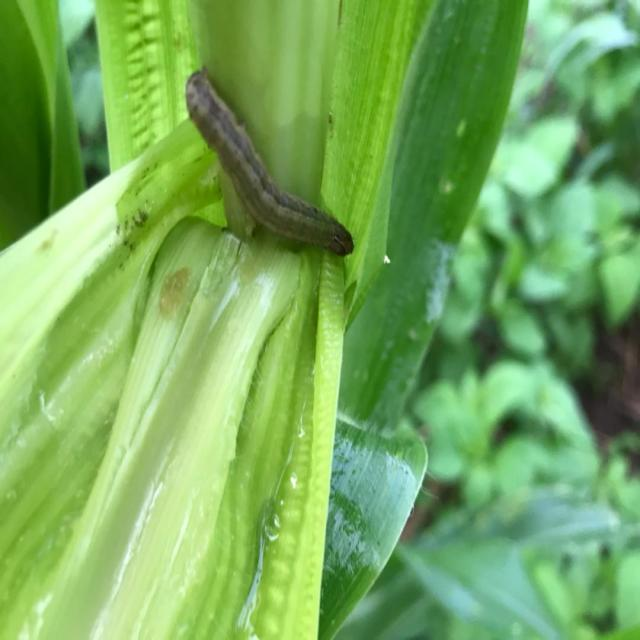yellow-stem-borer-larva: (160, 64, 387, 281)
